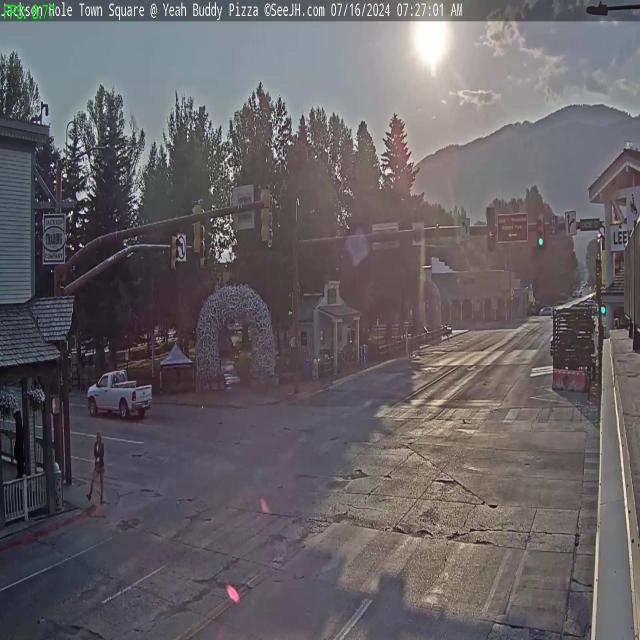person: (90, 430, 104, 510)
pickup: (86, 368, 154, 418)
traffic light: (190, 198, 203, 256), (261, 184, 273, 245), (487, 207, 496, 252), (536, 215, 546, 247), (170, 234, 178, 273)
